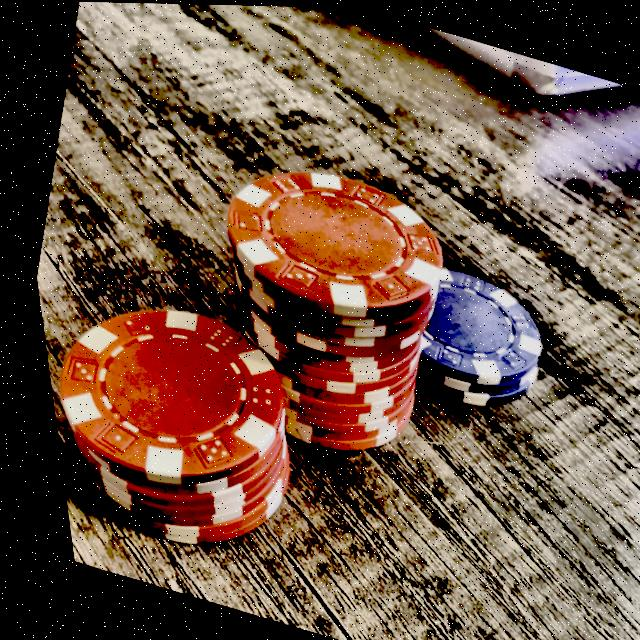Chip: (141, 127, 499, 479), (28, 262, 339, 575), (380, 236, 573, 439)
